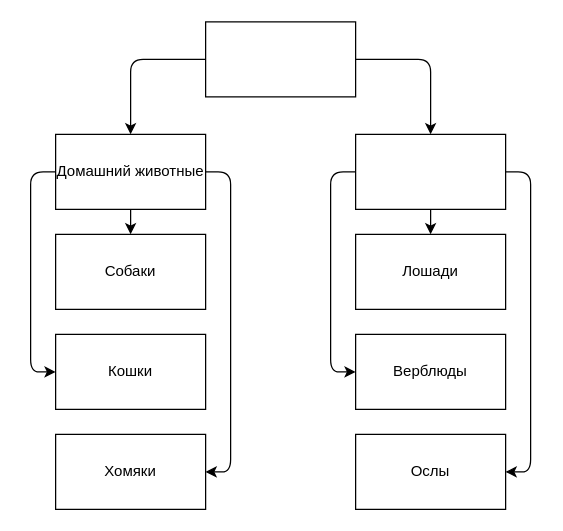
The diagram is 563 pixels wide and 531 high, and some of its shapes have lost their labels. Here are the shapes that lost their labels. From the top down, the centre of each, then its label:
(280,59): Друзья человека
(430,171): Вьючные животные
